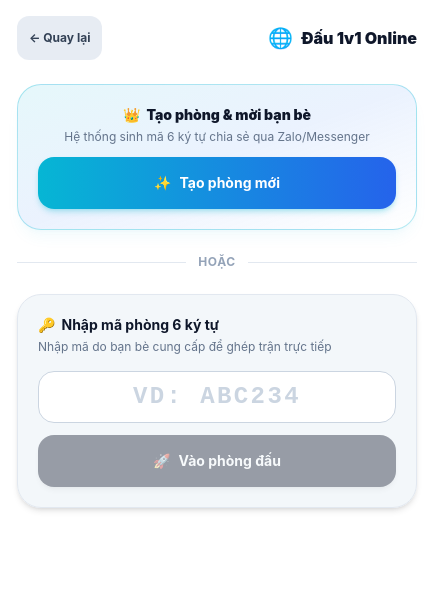
Scenario: OnlineLobby Component Tests (P3.3b) › 5. Vào phòng thất bại (hết hạn) -> hiển thị thông báo lỗi thân thiện
Type "ABC234" into the field with test id "room-code-input".
click(217, 397); type("ABC234")  # box [38,371,396,423]
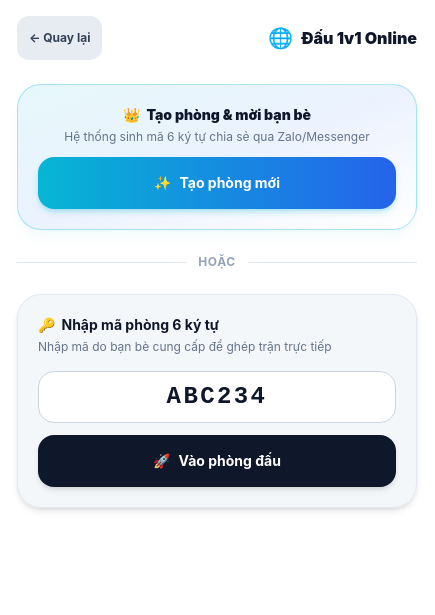
Click the button with test id "join-room-btn".
click(217, 461)  # box [38,435,396,487]
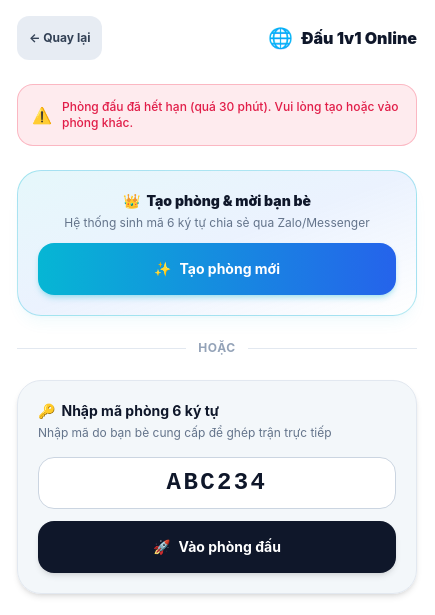
Expected: the element with test id "lobby-error-msg" shows "Phòng đấu đã hết hạn (quá 30 phút)", [62,99,398,130]
